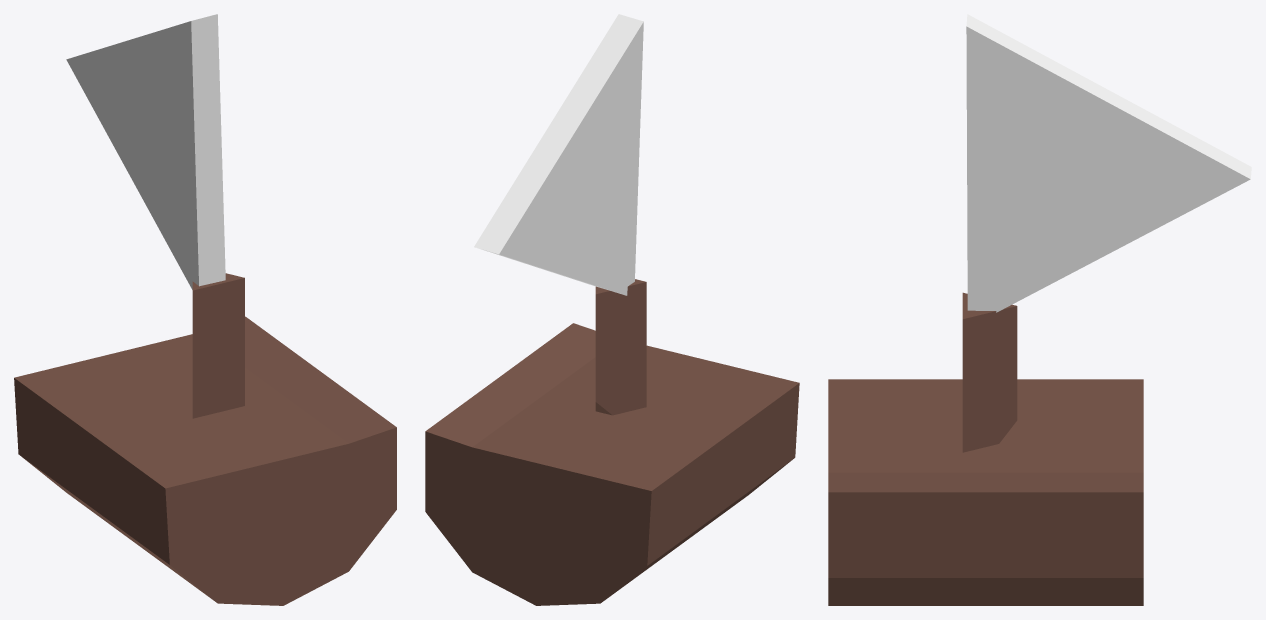
The model's file is boat4.fbx.
3 renders of one model, left to right at view 1: azimuth 30°, elevation 25°; view 2: azimuth 150°, elevation 25°; view 3: azimuth 270°, elevation 25°, orthographic. The views are drawn at different scales.
Parts seen in each view (by area): view 1: mesh_1812785844, group_410817031, mesh_419589608; view 2: mesh_1812785844, group_410817031, mesh_419589608; view 3: mesh_1812785844, group_410817031, mesh_419589608.
Boxes of the visible parts, bbox=[...] form: mesh_1812785844: bbox=[14, 316, 396, 605]; group_410817031: bbox=[66, 14, 225, 289]; mesh_419589608: bbox=[192, 273, 244, 418]; mesh_1812785844: bbox=[425, 323, 799, 605]; group_410817031: bbox=[474, 14, 643, 295]; mesh_419589608: bbox=[595, 279, 646, 415]; mesh_1812785844: bbox=[828, 379, 1143, 605]; group_410817031: bbox=[966, 14, 1251, 312]; mesh_419589608: bbox=[962, 292, 1017, 452].
Bounding box in the file's own units: 4.42 × 9.9 × 6.72.
